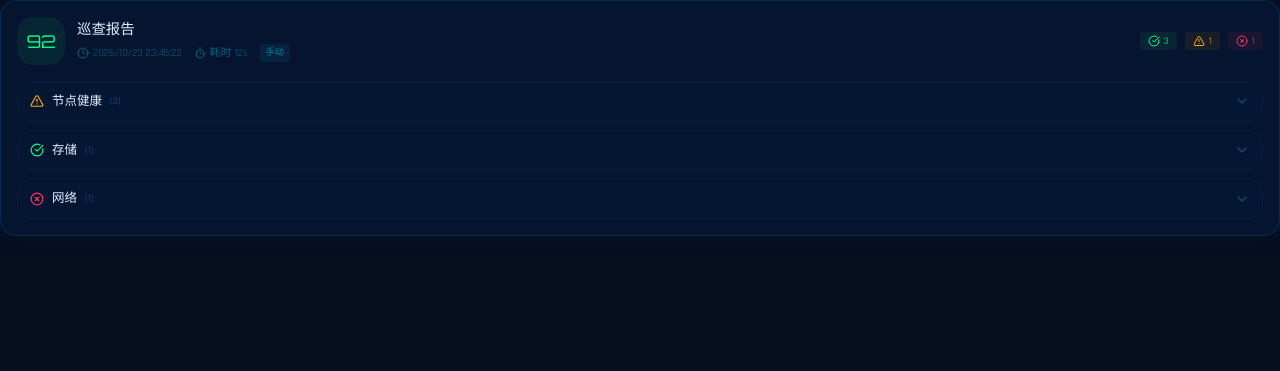
Test: PatrolReport › 展开/折叠 › 再次点击应折叠
Click the text "节点健康": (77,101) x1=52 y1=92 x2=102 y2=111
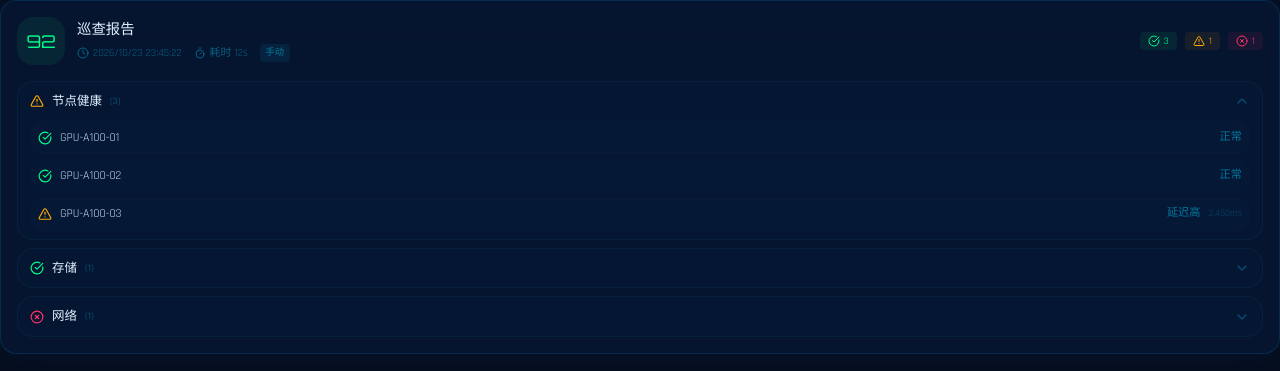
Result: the text "GPU-A100-01" is shown at x1=60 y1=130 x2=119 y2=145
Click the text "节点健康": (77,101) x1=52 y1=92 x2=102 y2=111
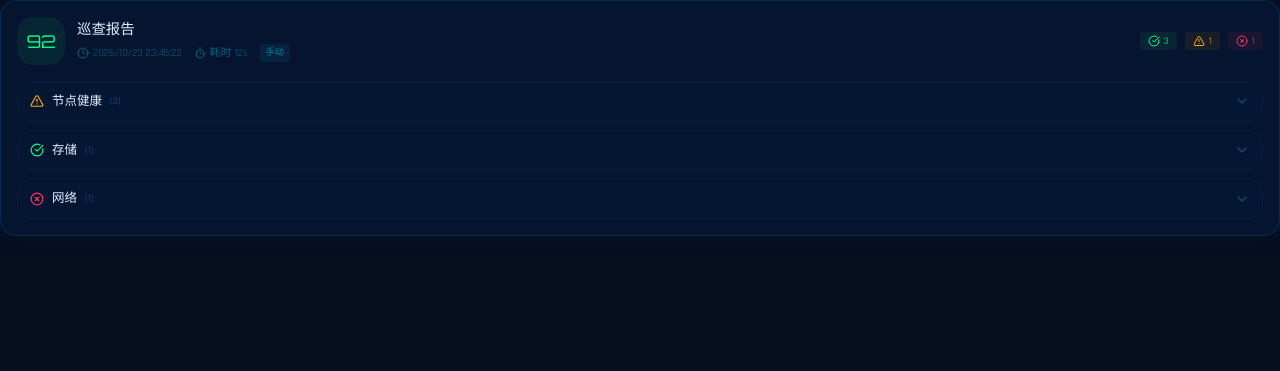
Result: the text "GPU-A100-01" is gone
